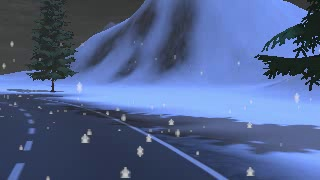Lane: (0, 93, 228, 179)
